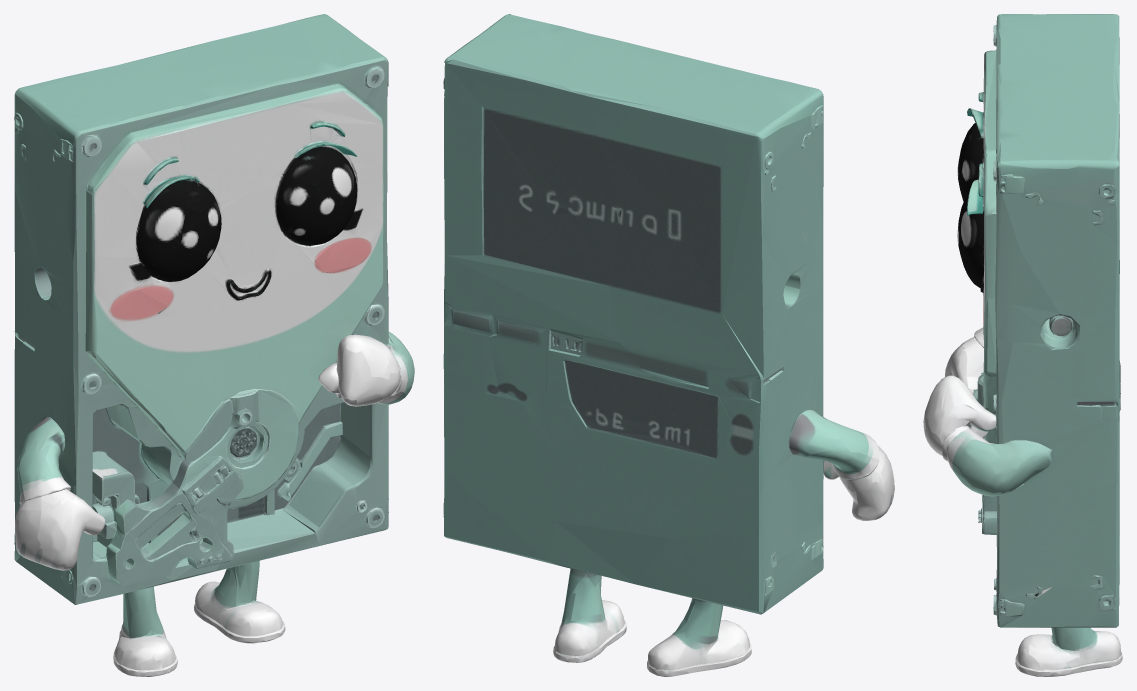
The model's file is EcoByte.fbx.
The picture shows the model from 3 angles, left to right: view 1: azimuth 30°, elevation 25°; view 2: azimuth 150°, elevation 25°; view 3: azimuth 270°, elevation 25°; orthographic projection. The views are drawn at different scales.
Parts seen in each view (by area): view 1: output_unwrapped; view 2: output_unwrapped; view 3: output_unwrapped.
Boxes of the visible parts, x1=… form: output_unwrapped: x1=14, y1=14, x2=414, y2=676; output_unwrapped: x1=443, y1=14, x2=894, y2=676; output_unwrapped: x1=923, y1=14, x2=1122, y2=676.
Bounding box in the file's own units: 73.9 × 100 × 32.44.
Materials: 1 (1 with a texture image).
